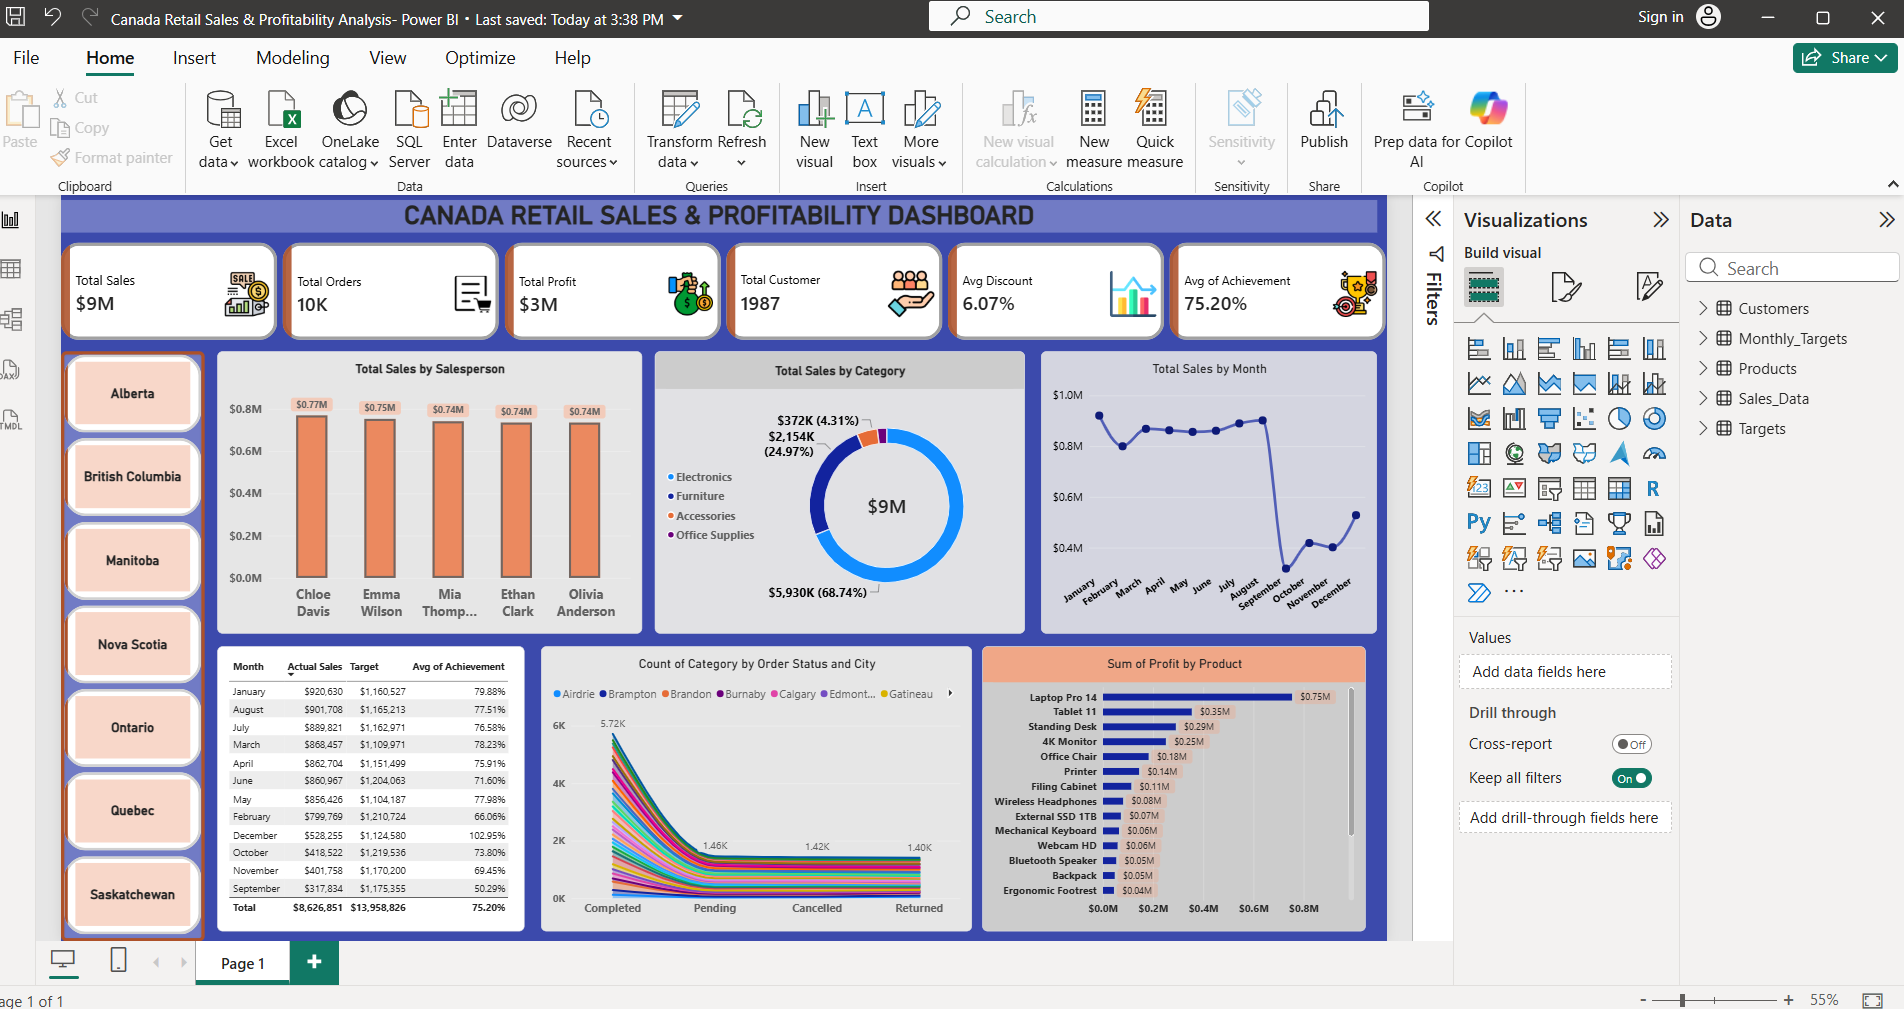

The page's visual inventory and layout, read from the dashboard file:
{"tool":"powerbi","page":{"name":"Page 1","canvas":[1920,1080],"ordinal":0},"visuals":[{"type":"cardVisual","fields":{"Data":["Sales_Data.Total Sales","Sales_Data.Total Orders","Sales_Data.Total Profit","Sales_Data.Total Customer","Sales_Data.Avg Discount","Avg(Monthly_Targets.Achievement %)"]},"box":[0,68.8,1920.1,141.2],"z":0},{"type":"advancedSlicerVisual","fields":{"Values":["Sales_Data.Province"]},"box":[0,226.2,208.1,854.2],"z":1},{"type":"clusteredColumnChart","fields":{"Category":["Sales_Data.Salesperson"],"Y":["Sales_Data.Total Sales"]},"box":[226.2,226.2,615.3,409],"z":2},{"type":"donutChart","fields":{"Category":["Products.Category"],"Y":["Sales_Data.Total Sales"]},"box":[859.6,226.2,535.7,409],"z":3},{"type":"lineChart","fields":{"Category":["Sales_Data.Order Date.Variation.Date Hierarchy.Month","Sales_Data.Order Date.Variation.Date Hierarchy.Year"],"Y":["Sales_Data.Total Sales"]},"box":[1418.8,226.2,486.8,409],"z":4},{"type":"tableEx","fields":{"Values":["Monthly_Targets.Month.Variation.Date Hierarchy.Month","Sum(Monthly_Targets.Actual Sales)","Sum(Monthly_Targets.Total Monthly Target)","Avg(Monthly_Targets.Achievement %)"]},"box":[226.2,653.3,445.2,412.6],"z":5},{"type":"shape","title":"CANADA RETAIL SALES & PROFITABILITY DASHBOARD","box":[0,7.2,1905.6,47.1],"z":6},{"type":"clusteredBarChart","fields":{"Category":["Sales_Data.Product"],"Y":["Sum(Sales_Data.Profit)"]},"box":[1333.7,653.3,555.6,412.6],"z":7},{"type":"stackedAreaChart","fields":{"Category":["Sales_Data.Order Status"],"Series":["Customers.City"],"Y":["CountNonNull(Sales_Data.Category)"]},"box":[694.9,653.3,624.3,412.6],"z":8}]}

Visuals, with their boxes on the page's 1920x1080 design canvas (x1, y1, x2, y2). These are canvas units, not pixel positions in the 1904x1009 screenshot, which may show the page scaled, cropped or inside an application window:
cardVisual - Sales_Data.Total Sales x Sales_Data.Total Orders: select_region(0, 69, 1920, 210)
advancedSlicerVisual - Sales_Data.Province: select_region(0, 226, 208, 1080)
clusteredColumnChart - Sales_Data.Salesperson x Sales_Data.Total Sales: select_region(226, 226, 842, 635)
donutChart - Products.Category x Sales_Data.Total Sales: select_region(860, 226, 1395, 635)
lineChart - Sales_Data.Order Date.Variation.Date Hierarchy.Month x Sales_Data.Order Date.Variation.Date Hierarchy.Year: select_region(1419, 226, 1906, 635)
tableEx - Monthly_Targets.Month.Variation.Date Hierarchy.Month x Sum(Monthly_Targets.Actual Sales): select_region(226, 653, 671, 1066)
"CANADA RETAIL SALES & PROFITABILITY DASHBOARD" shape: select_region(0, 7, 1906, 54)
clusteredBarChart - Sales_Data.Product x Sum(Sales_Data.Profit): select_region(1334, 653, 1889, 1066)
stackedAreaChart - Sales_Data.Order Status x Customers.City: select_region(695, 653, 1319, 1066)
